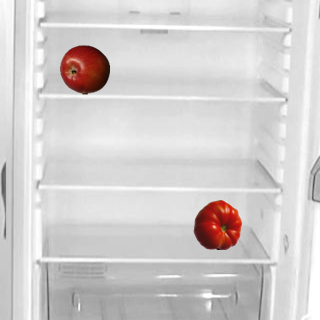Apple Braeburn: (59, 44, 109, 94)
Tomato 3: (192, 199, 242, 249)
